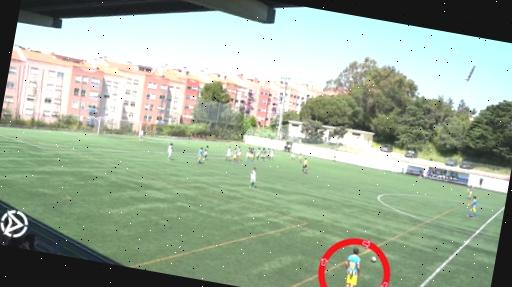highlight_overlay: (310, 228, 400, 287)
